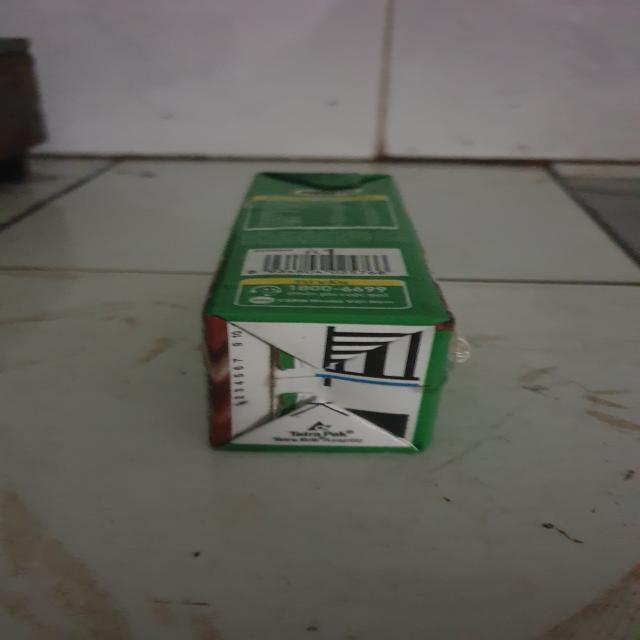Milo: (213, 160, 458, 453)
